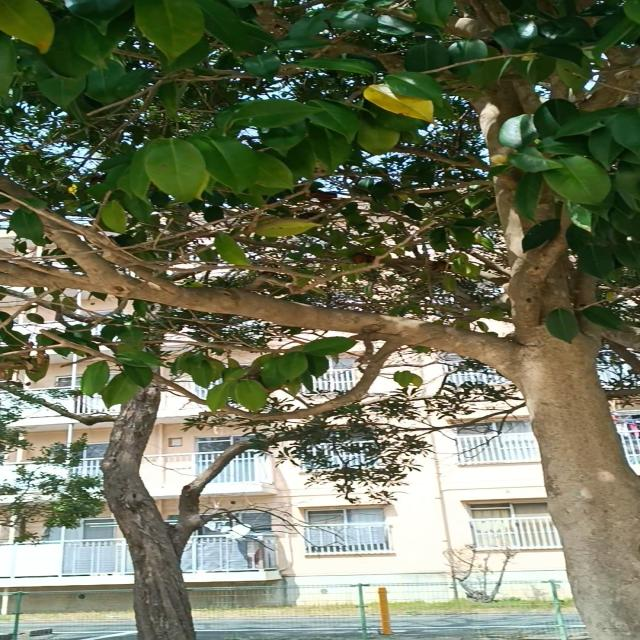Branch: (0, 259, 512, 378), (0, 180, 126, 277), (507, 213, 572, 323)
